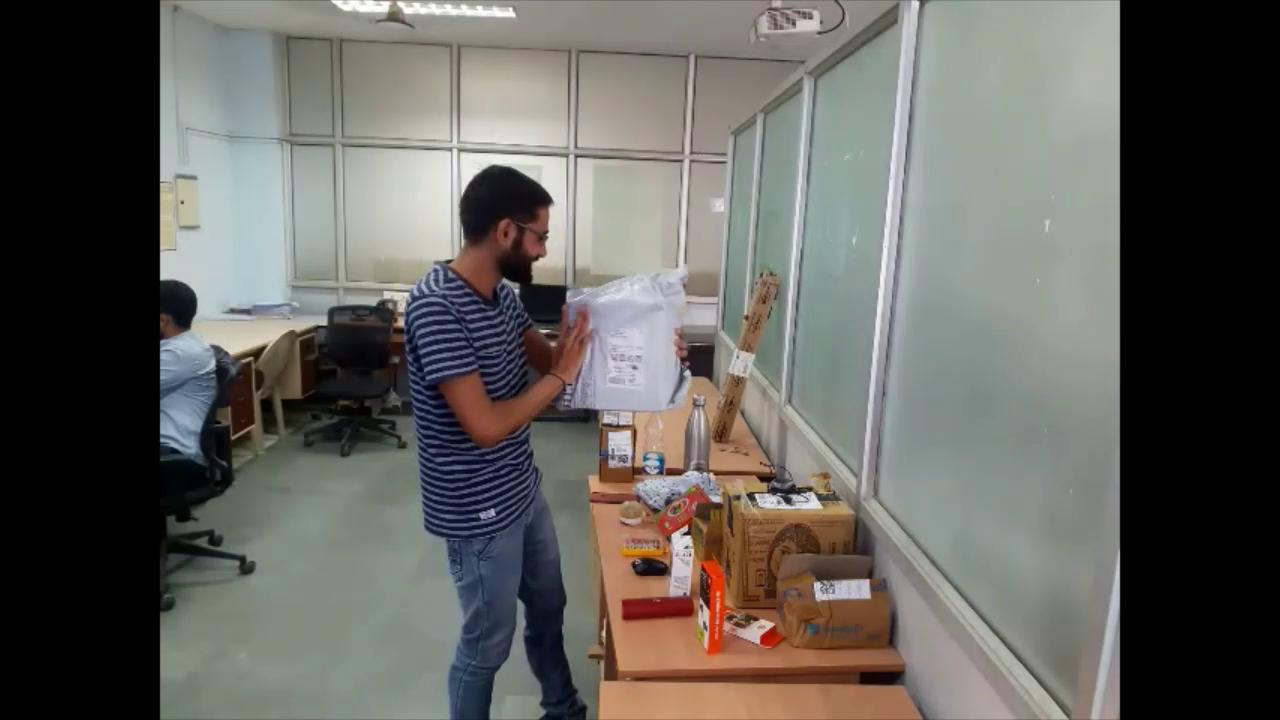Normal: (397, 165, 693, 719)
